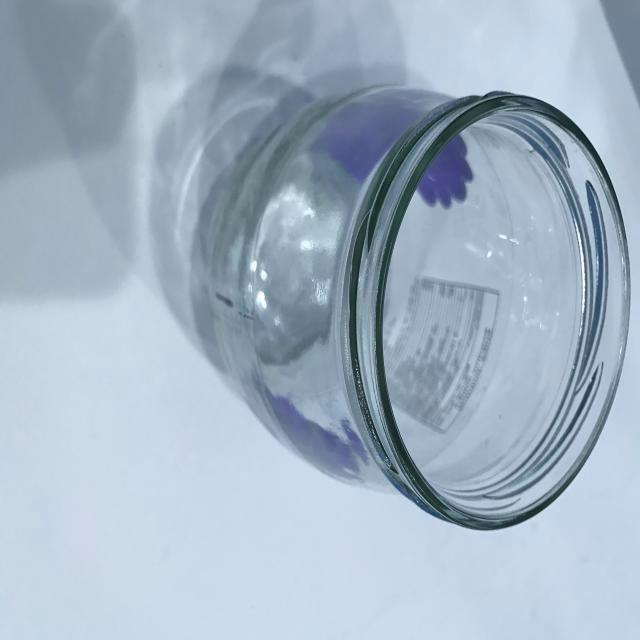glass: (170, 70, 640, 533)
